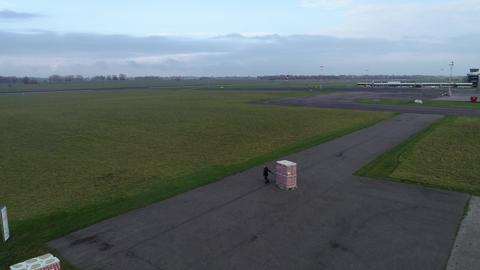RockwoolPallet: (274, 159, 297, 188)
